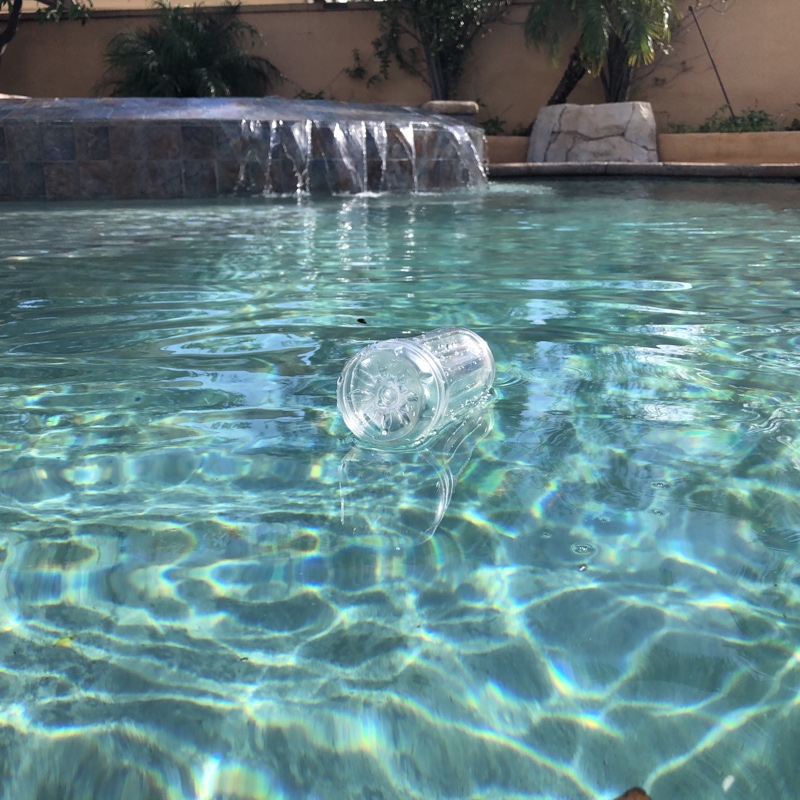Plastic Bottle: (331, 323, 502, 448)
